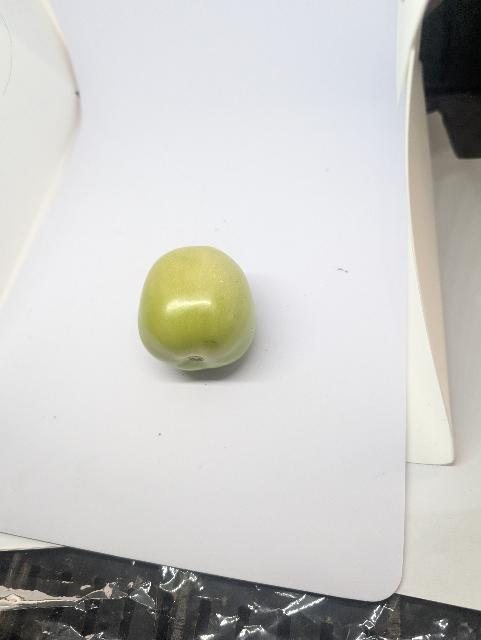green: (135, 242, 259, 374)
